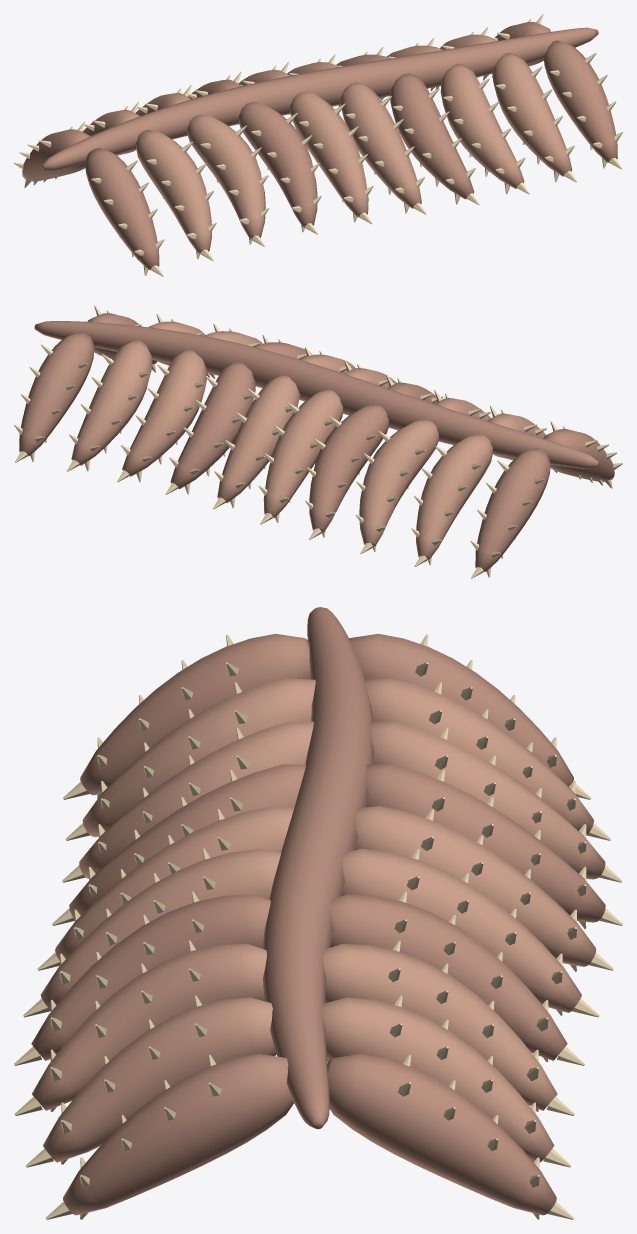
File: diania.glb
The picture shows the model from 3 angles, top to bottom: view 1: azimuth 30°, elevation 25°; view 2: azimuth 150°, elevation 25°; view 3: azimuth 270°, elevation 25°; orthographic projection. The views are drawn at different scales.
Parts seen in each view (by area): view 1: Twenty robust lobopods, Continuous narrow soft trunk, Reduced large soft-cuticle spine rhythm; view 2: Twenty robust lobopods, Continuous narrow soft trunk, Reduced large soft-cuticle spine rhythm; view 3: Twenty robust lobopods, Continuous narrow soft trunk, Reduced large soft-cuticle spine rhythm.
Part boxes in pixels (x1,y1,x2,y2): Twenty robust lobopods: (22,22,617,270); Continuous narrow soft trunk: (41,27,598,170); Reduced large soft-cuticle spine rhythm: (14,14,622,276); Twenty robust lobopods: (19,313,614,571); Continuous narrow soft trunk: (34,321,598,468); Reduced large soft-cuticle spine rhythm: (14,305,622,578); Twenty robust lobopods: (31,633,605,1215); Continuous narrow soft trunk: (263,607,374,1129); Reduced large soft-cuticle spine rhythm: (14,634,622,1219).
Size of the model in its own units: 0.0601 by 0.0108 by 0.0301.
